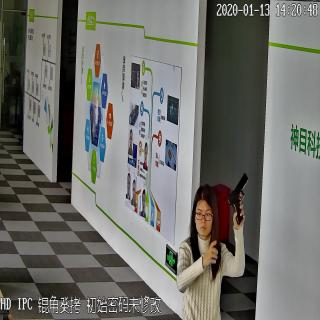gun: (226, 170, 248, 226)
